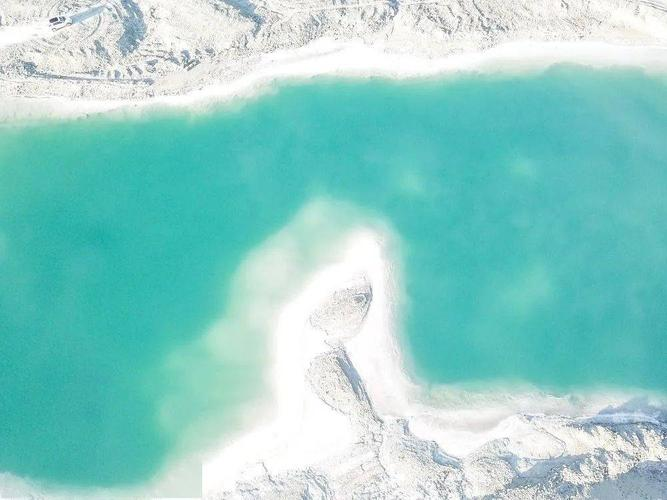sky_cloud: (269, 73, 634, 416)
